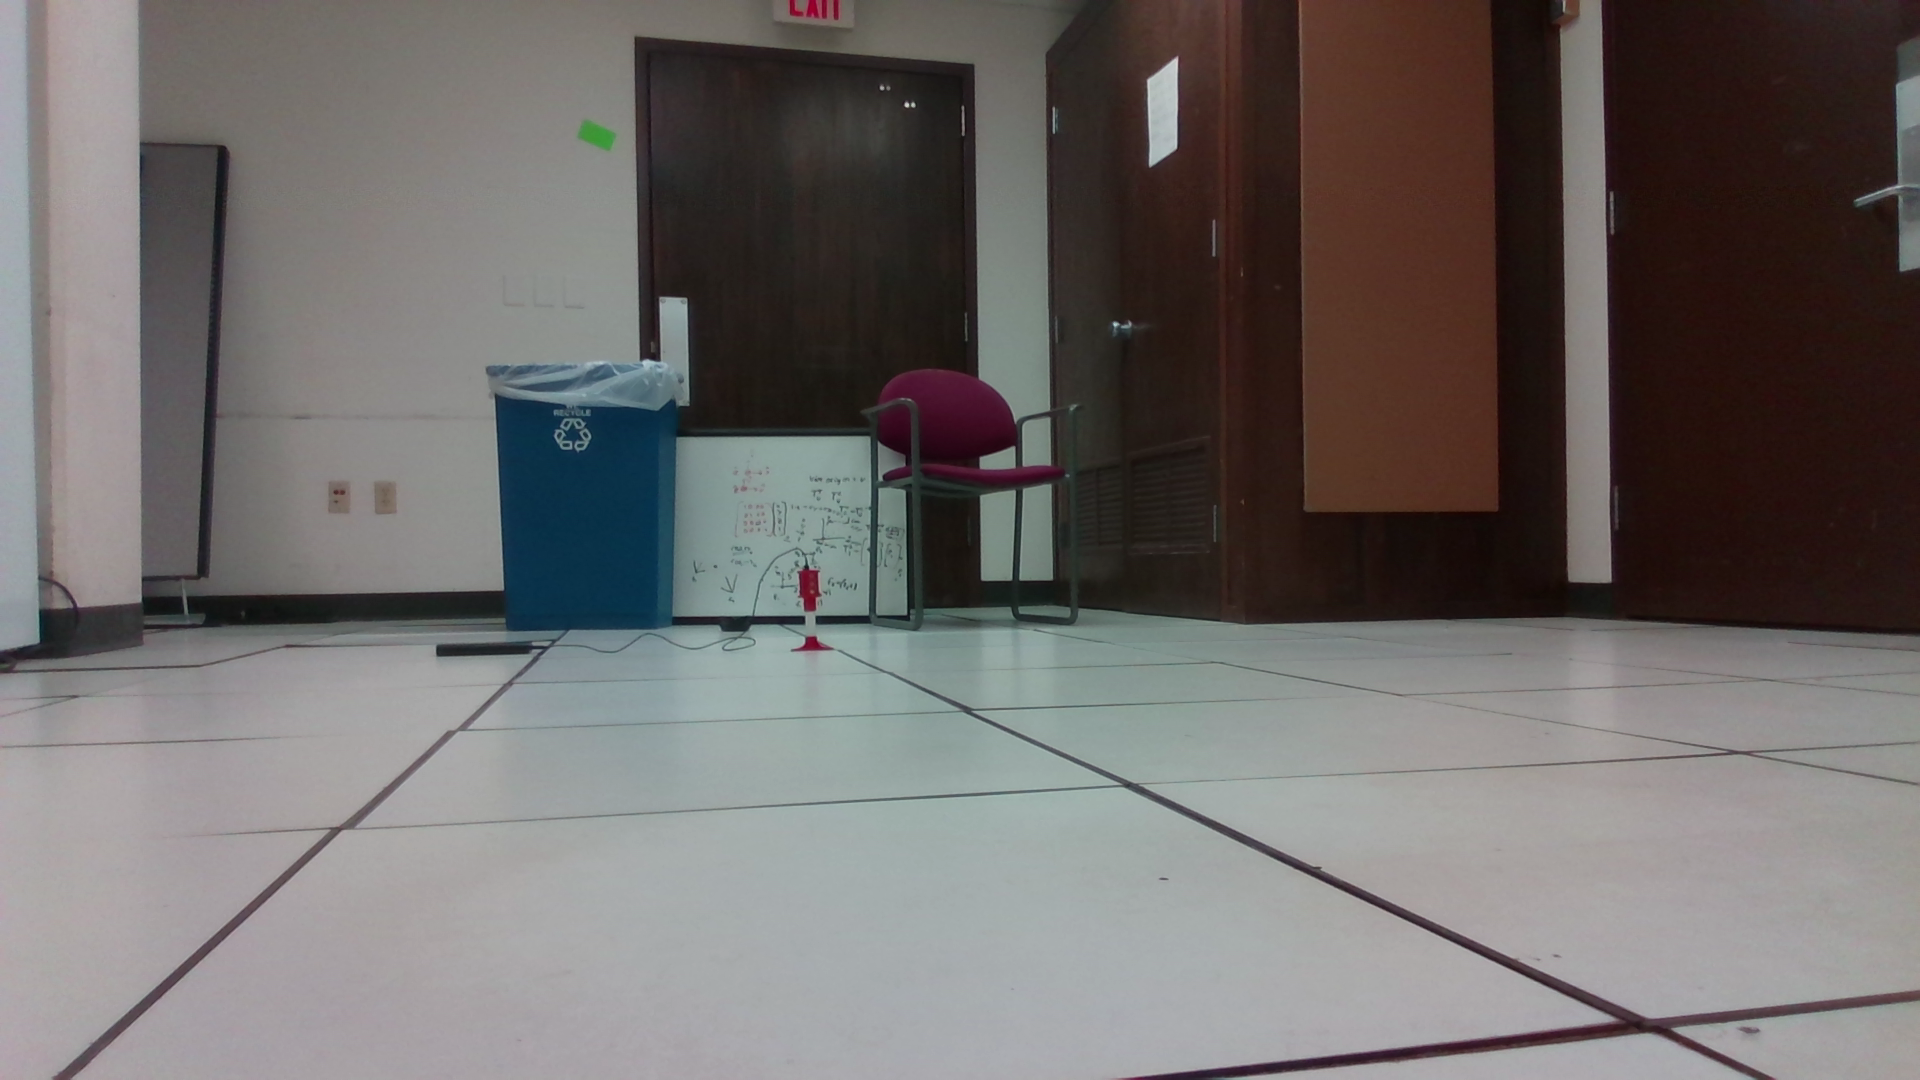stoplight: (798, 567, 820, 611)
